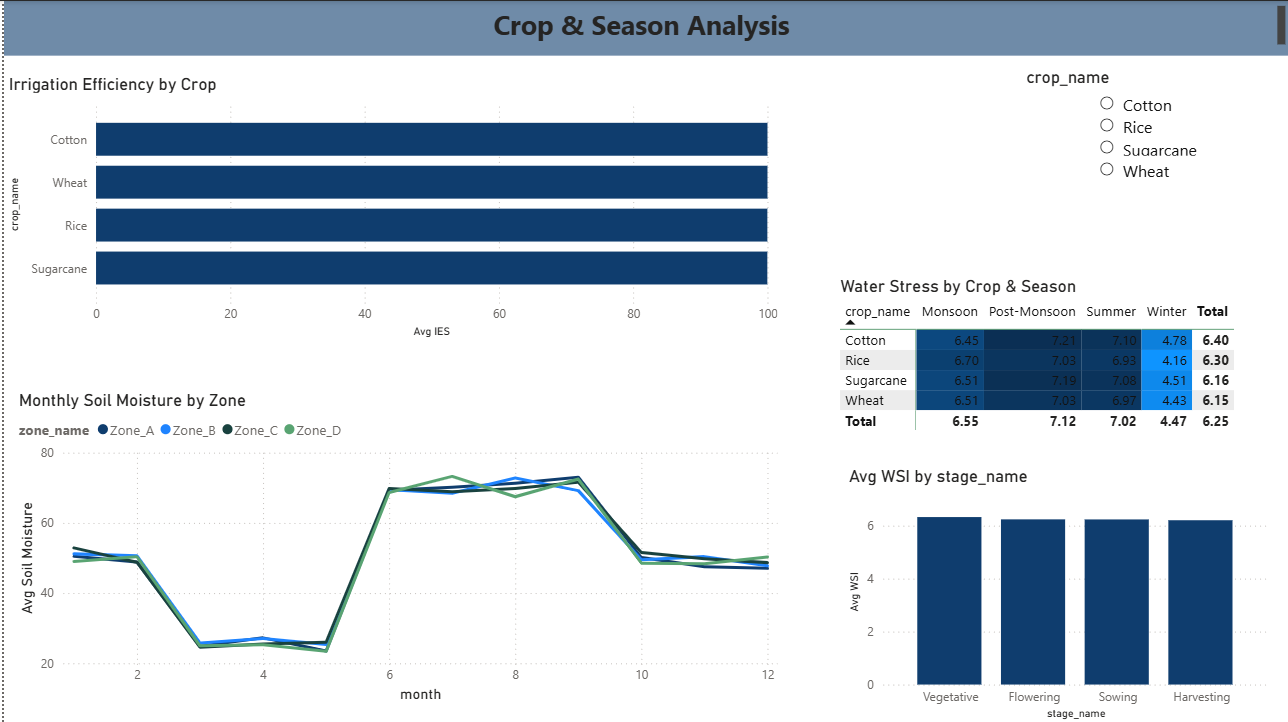

Layout of this report page (visuals, bound fields, positions):
{"tool":"powerbi","page":{"name":"Crop & Season Analysis","canvas":[1280,720],"ordinal":1},"visuals":[{"type":"textbox","box":[0,0,1280,54.7],"z":0},{"type":"clusteredBarChart","title":"Irrigation Efficiency by Crop","fields":{"Y":["fact_irrigation.Avg IES"],"Category":["dim_crop.crop_name"]},"box":[0,72.1,775,267.5],"z":1000},{"type":"pivotTable","title":"Water Stress by Crop & Season","fields":{"Rows":["dim_crop.crop_name"],"Columns":["dim_date.season"],"Values":["fact_irrigation.Avg WSI"]},"box":[827.2,273.7,444.1,171.7],"z":2000},{"type":"lineChart","title":"Monthly Soil Moisture by Zone","fields":{"Category":["dim_date.month"],"Y":["fact_irrigation.Avg Soil Moisture"],"Series":["dim_zone.zone_name"]},"box":[10,386.9,765,316],"z":3000},{"type":"listSlicer","fields":{"Values":["dim_crop.crop_name"]},"box":[1012.6,65.9,258.7,207.7],"z":4000},{"type":"clusteredColumnChart","fields":{"Category":["dim_growth_stage.stage_name"],"Y":["fact_irrigation.Avg WSI"]},"box":[835.9,462.8,427.9,257.5],"z":5000}]}

Visuals, with their boxes in screenshot pixels (x1, y1, x2, y2), scaled from the page's 1280x720 canvas onto the 1288x722 screenshot:
textbox: region(0, 0, 1287, 55)
"Irrigation Efficiency by Crop" clusteredBarChart: region(0, 72, 780, 341)
"Water Stress by Crop & Season" pivotTable: region(832, 274, 1279, 447)
"Monthly Soil Moisture by Zone" lineChart: region(10, 388, 780, 705)
listSlicer - dim_crop.crop_name: region(1019, 66, 1279, 274)
clusteredColumnChart - dim_growth_stage.stage_name x fact_irrigation.Avg WSI: region(841, 464, 1272, 721)
